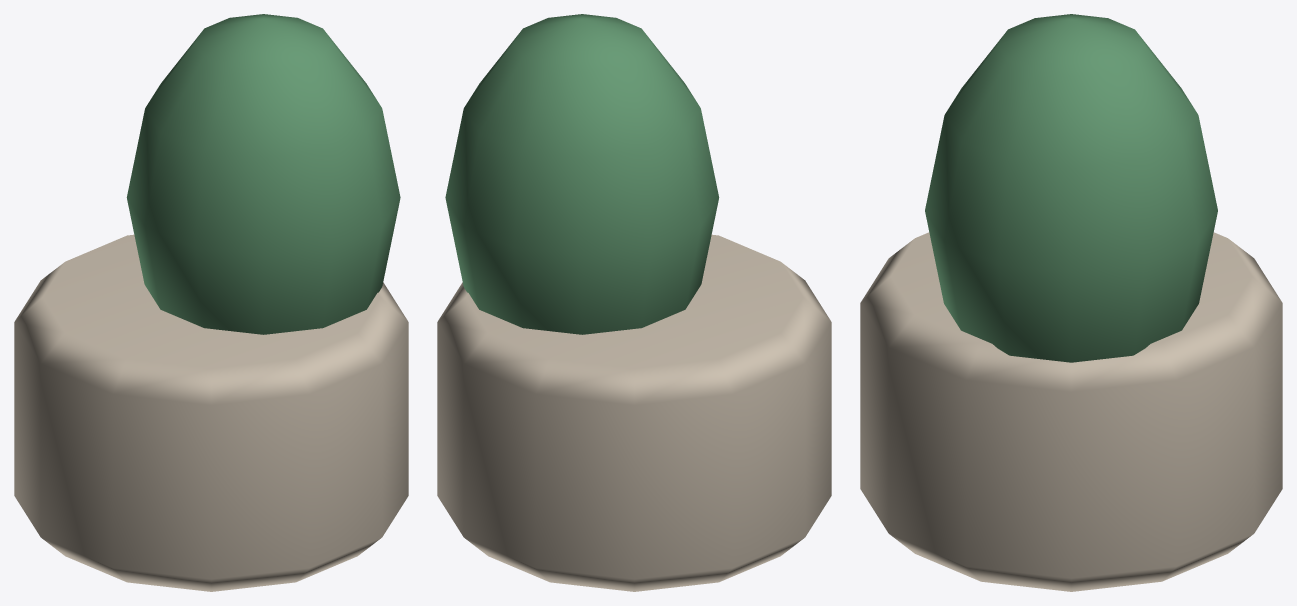
3 renders of one model, left to right at view 1: azimuth 30°, elevation 25°; view 2: azimuth 150°, elevation 25°; view 3: azimuth 270°, elevation 25°, orthographic. The views are drawn at different scales.
Parts seen in each view (by area): view 1: LOD2_PLANTER_ROUND_Pot, LOD2_PLANTER_ROUND_Crown_01; view 2: LOD2_PLANTER_ROUND_Pot, LOD2_PLANTER_ROUND_Crown_01; view 3: LOD2_PLANTER_ROUND_Pot, LOD2_PLANTER_ROUND_Crown_01.
Boxes of the visible parts, x1=… form: LOD2_PLANTER_ROUND_Pot: x1=14, y1=234, x2=408, y2=591; LOD2_PLANTER_ROUND_Crown_01: x1=126, y1=14, x2=400, y2=334; LOD2_PLANTER_ROUND_Pot: x1=437, y1=234, x2=831, y2=591; LOD2_PLANTER_ROUND_Crown_01: x1=445, y1=14, x2=719, y2=334; LOD2_PLANTER_ROUND_Pot: x1=860, y1=232, x2=1282, y2=591; LOD2_PLANTER_ROUND_Crown_01: x1=925, y1=14, x2=1217, y2=362.
Size of what is drawn, in the model's own units: 1.44 by 1.97 by 1.44.
